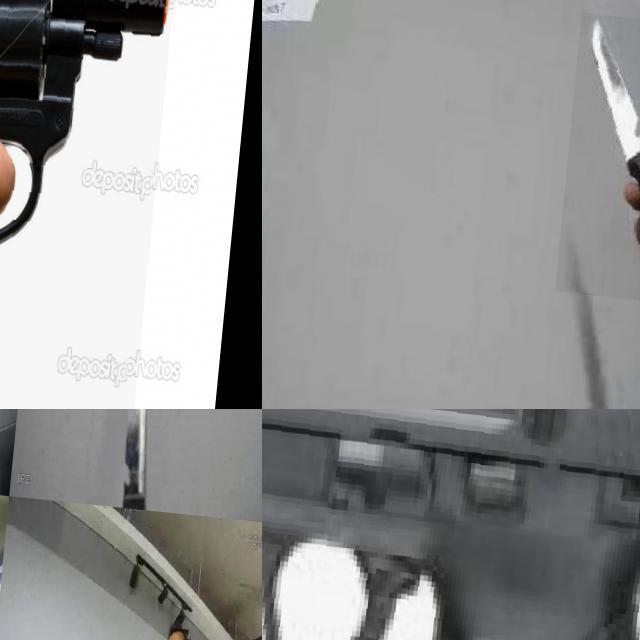-: (562, 3, 640, 294), (108, 409, 176, 513), (0, 409, 34, 540)
gun-knife-thesis - v11 Yolov5 augmented: (262, 409, 640, 640), (0, 0, 198, 409)
